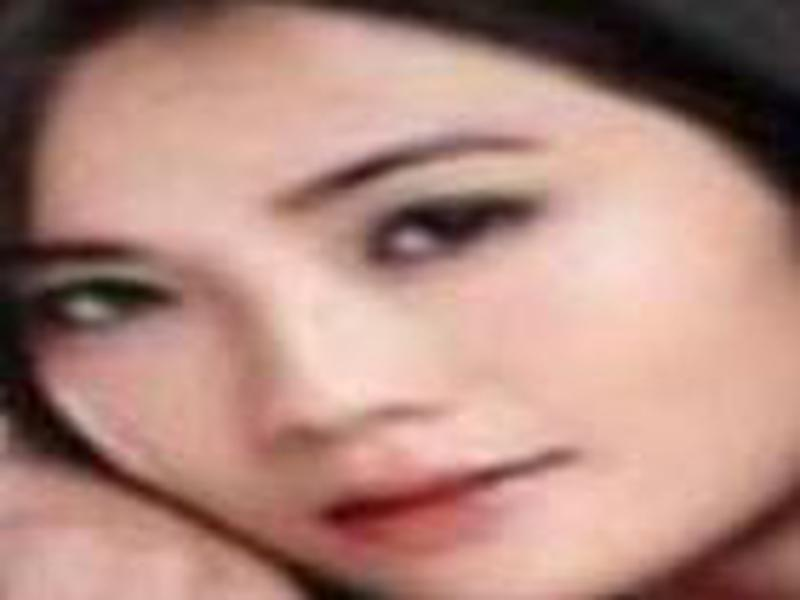without_mask: (17, 46, 793, 597)
